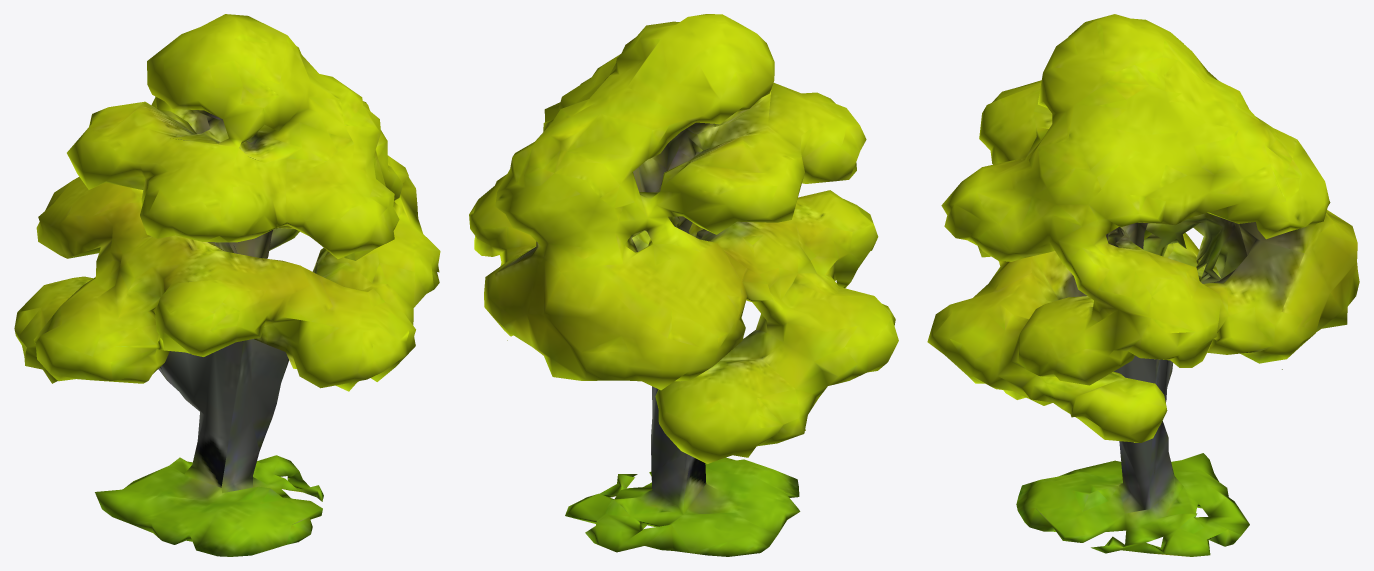
File: tree_ginkgo.glb
3 renders of one model, left to right at view 1: azimuth 30°, elevation 25°; view 2: azimuth 150°, elevation 25°; view 3: azimuth 270°, elevation 25°, orthographic.
Parts seen in each view (by area): view 1: tree_ginkgo; view 2: tree_ginkgo; view 3: tree_ginkgo.
Boxes of the visible parts, x1,y1,x2,y2 form: tree_ginkgo: [14, 14, 440, 556]; tree_ginkgo: [469, 14, 898, 556]; tree_ginkgo: [927, 14, 1359, 556].
Size of the model in its own units: 8.24 by 9.97 by 7.83.
Materials: 1 (1 with a texture image).
